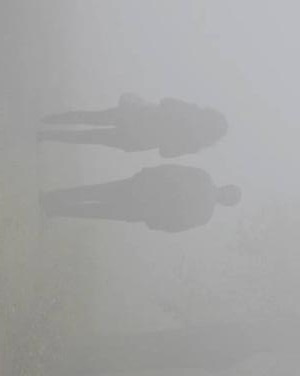person: (42, 165, 239, 234), (37, 93, 232, 159)
